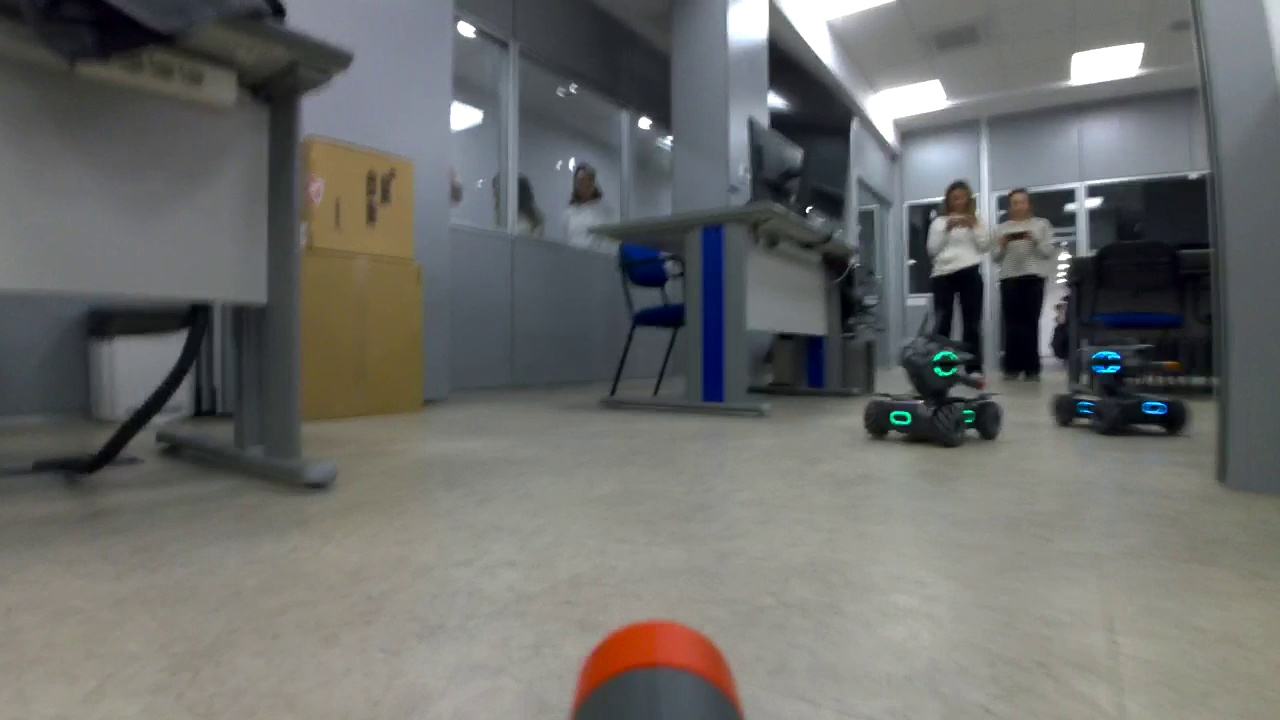robot: (862, 335, 1002, 446), (1048, 336, 1189, 439)
